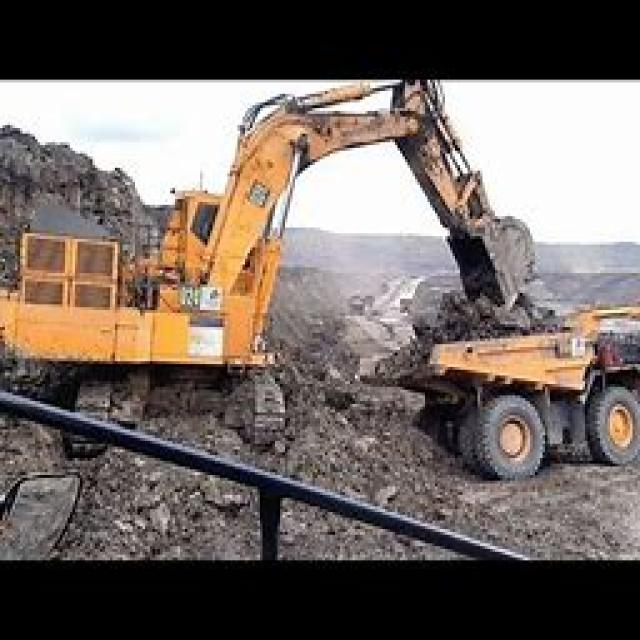dump_truck: (392, 313, 638, 492)
excavator: (18, 86, 550, 450)
